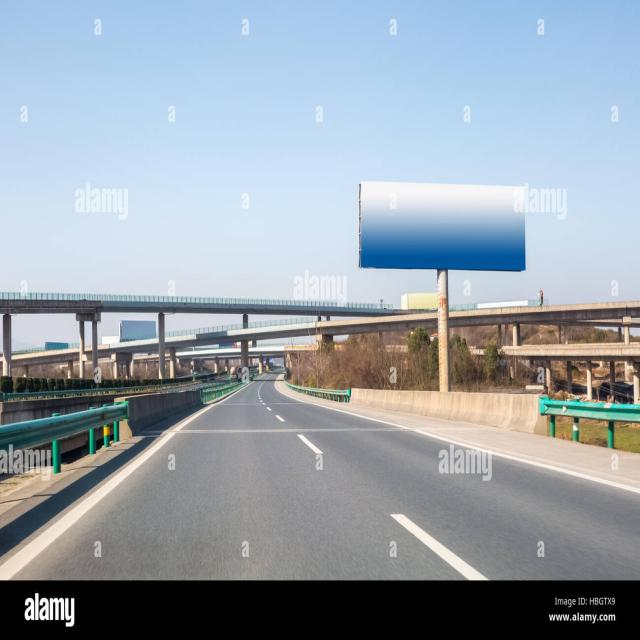Billboard_RHS: (351, 162, 534, 300)
Roadcorner: (288, 378, 640, 517), (0, 398, 228, 589)
Roadlane: (249, 395, 512, 586)
